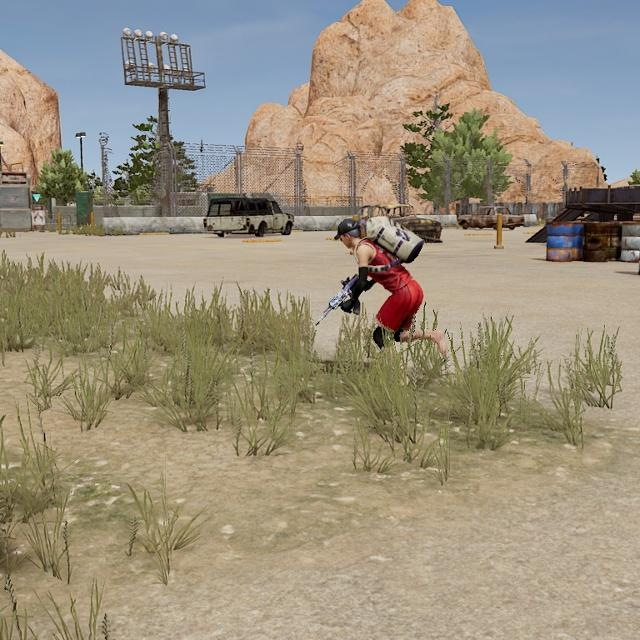head: (333, 218, 365, 250)
people: (333, 217, 453, 371)
